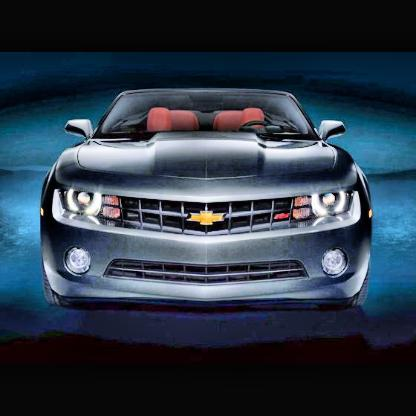Chevrolet Camaro Convertible 2012: (40, 86, 379, 319)
